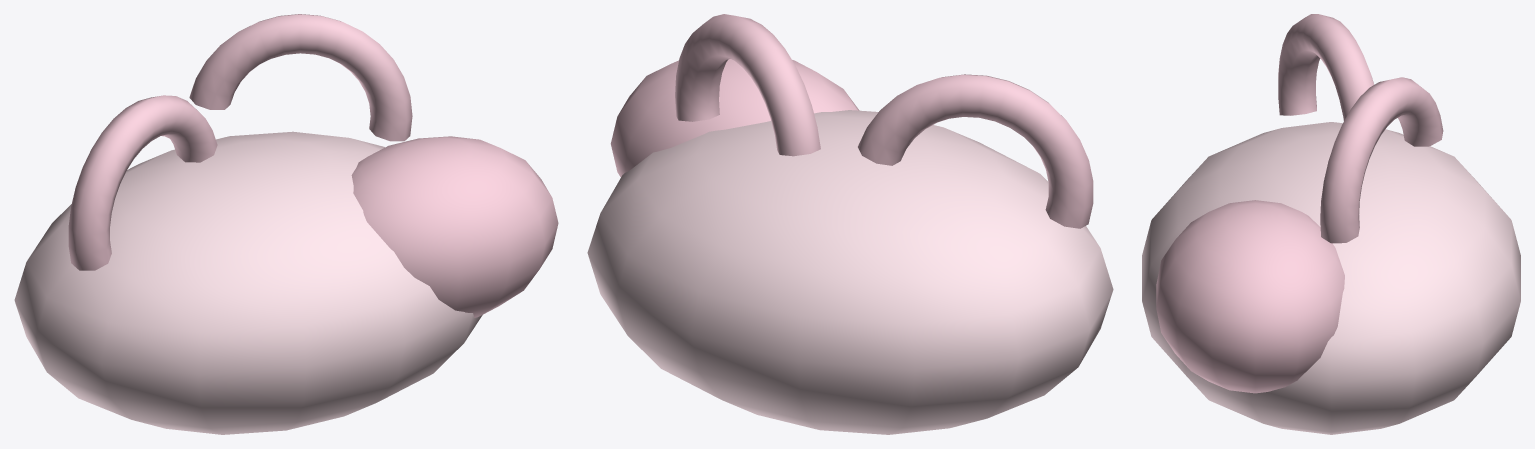
File: waste_plasticbag.fbx
3 views of the same model, side by side, from view 1: azimuth 30°, elevation 25°; view 2: azimuth 150°, elevation 25°; view 3: azimuth 270°, elevation 25° (orthographic). The views are drawn at different scales.
Visible parts, largest first — view 1: M__waste_plasticbag; view 2: M__waste_plasticbag; view 3: M__waste_plasticbag.
Boxes of the visible parts, x1,y1,x2,y2 form: M__waste_plasticbag: (14,14,558,434); M__waste_plasticbag: (587,14,1113,434); M__waste_plasticbag: (1142,14,1520,434).
Bounding box in the file's own units: 0.2078 × 0.149 × 0.1492.
